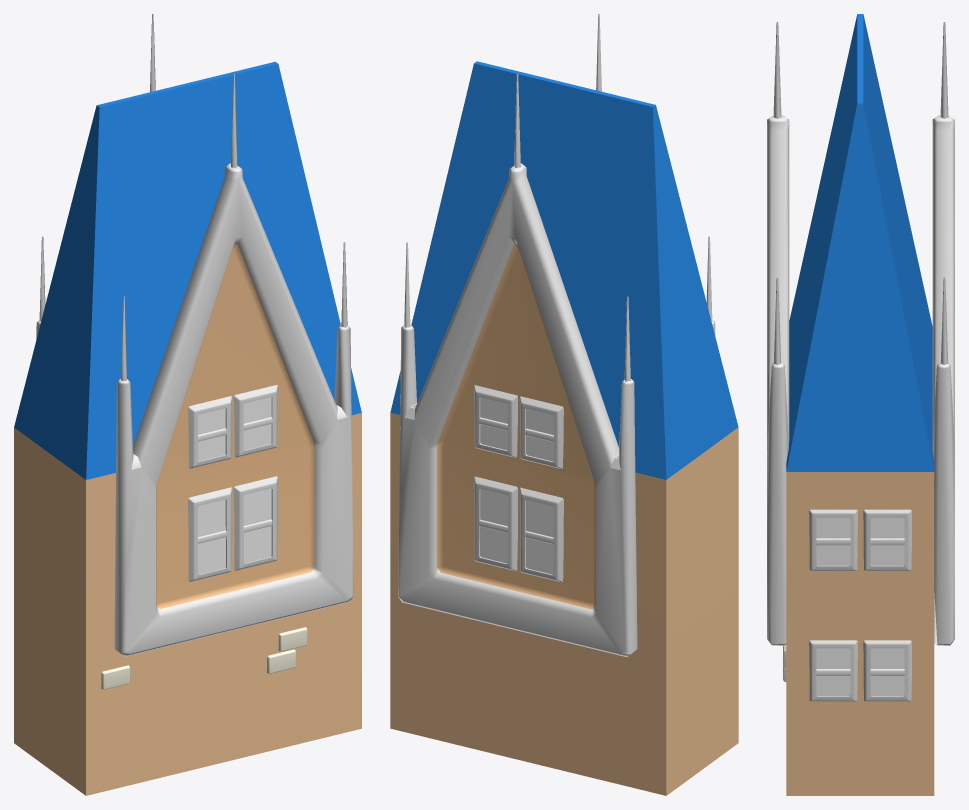
The model's file is castle_tower_010.gltf.
3 views of the same model, side by side, from view 1: azimuth 30°, elevation 25°; view 2: azimuth 150°, elevation 25°; view 3: azimuth 270°, elevation 25° (orthographic). The views are drawn at different scales.
Parts seen in each view (by area): view 1: castle_tower_010; view 2: castle_tower_010; view 3: castle_tower_010.
Part boxes in pixels (left/top/right/bottom): castle_tower_010: left=14, top=14, right=361, bottom=795; castle_tower_010: left=390, top=14, right=738, bottom=795; castle_tower_010: left=767, top=14, right=954, bottom=795.
Size of the model in its own units: 5.88 by 13.94 by 3.35.
2 materials, 1 textured.
